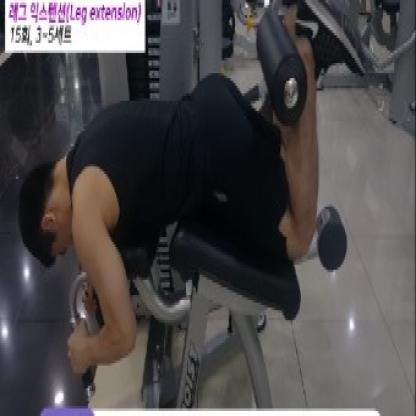reg curl machine: (19, 0, 370, 412)
